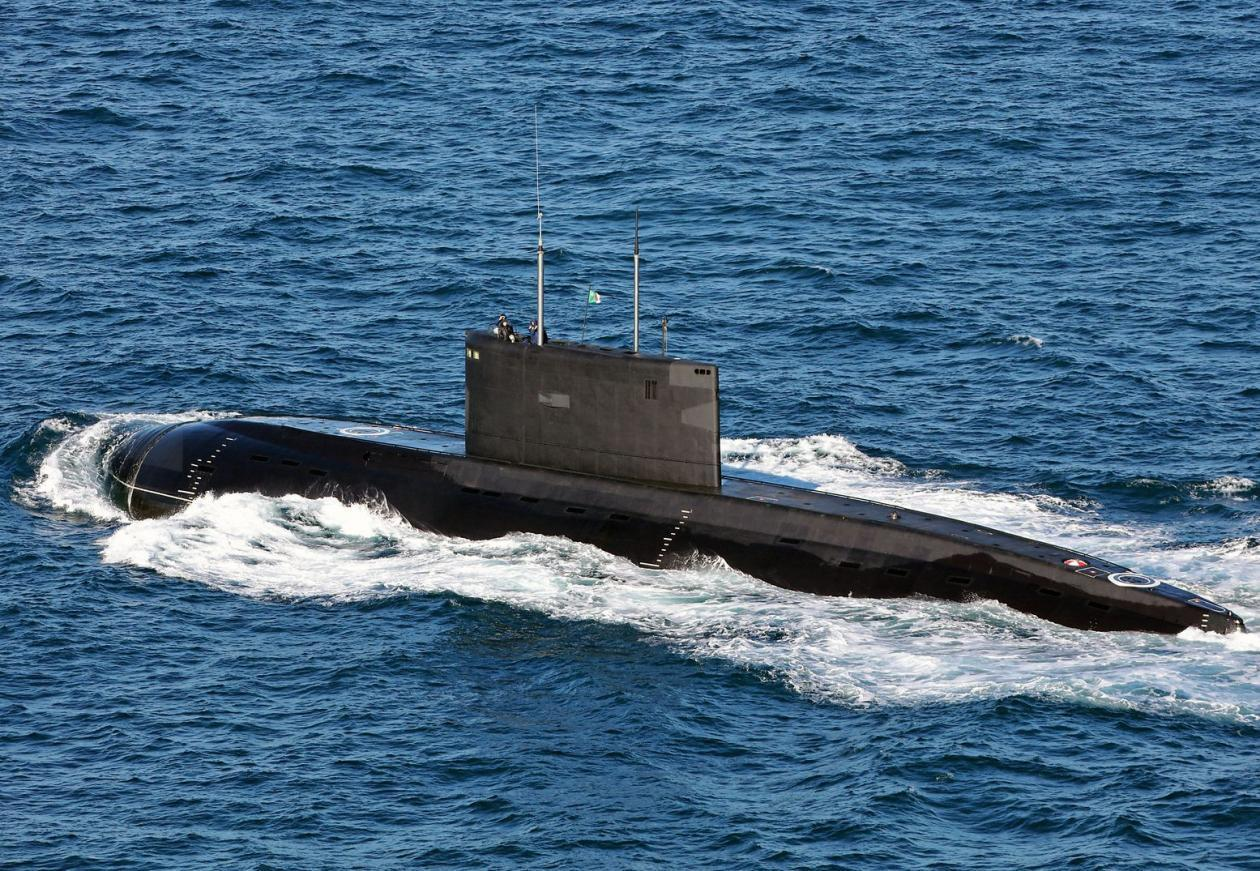Submarine: (42, 182, 1260, 834)
